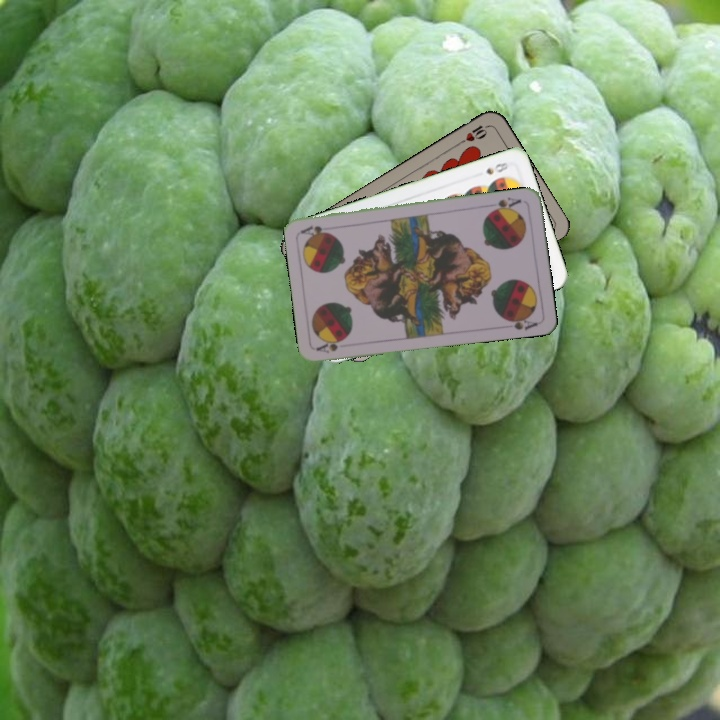H10: (454, 120, 491, 147)
S8: (481, 158, 510, 177)
SA: (486, 193, 524, 215), (313, 334, 348, 355)
